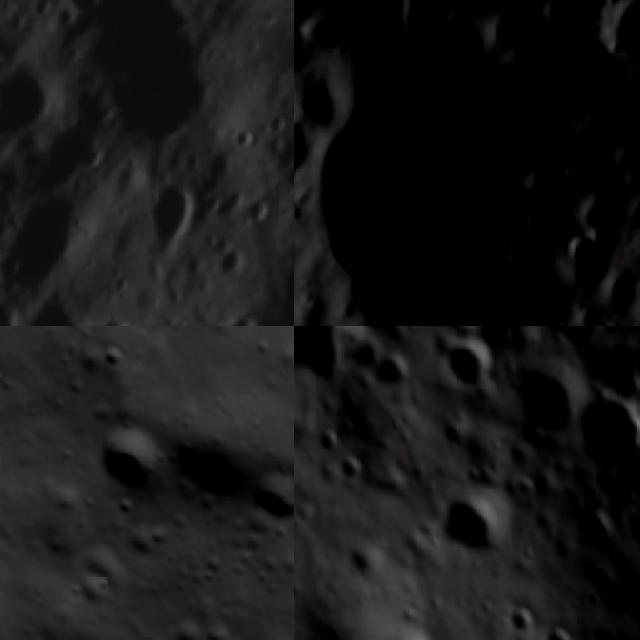crater: (294, 0, 640, 326), (0, 179, 103, 319), (83, 408, 189, 514), (16, 111, 113, 222), (501, 346, 597, 453), (124, 166, 216, 268), (429, 478, 522, 570), (562, 372, 640, 480), (0, 51, 71, 168), (421, 326, 506, 412), (294, 326, 389, 402), (568, 0, 640, 92), (381, 0, 484, 58), (294, 47, 358, 135), (491, 23, 558, 94), (239, 460, 294, 541), (468, 0, 542, 59), (528, 326, 622, 368), (584, 250, 640, 319), (202, 236, 262, 298), (0, 293, 104, 326), (228, 187, 284, 242), (370, 342, 418, 406), (0, 464, 30, 564), (494, 594, 548, 640), (399, 43, 450, 91), (220, 116, 268, 164), (294, 102, 318, 196), (558, 226, 604, 274), (74, 304, 167, 326), (53, 0, 117, 30), (210, 303, 275, 326), (372, 621, 446, 640), (538, 619, 585, 640)
